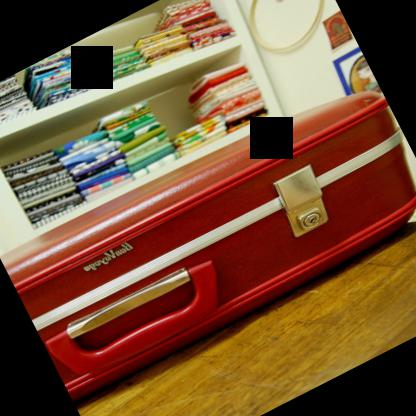suitcase: (0, 87, 416, 404)
